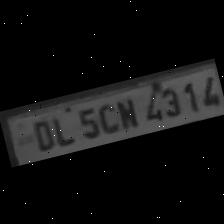1: (174, 77, 200, 114)
3: (156, 81, 182, 119)
4: (134, 84, 166, 124), (194, 70, 223, 108)
5: (69, 102, 102, 142)
C: (92, 98, 118, 136)
D: (23, 114, 55, 153)
L: (46, 108, 75, 148)
N: (110, 92, 141, 132)
